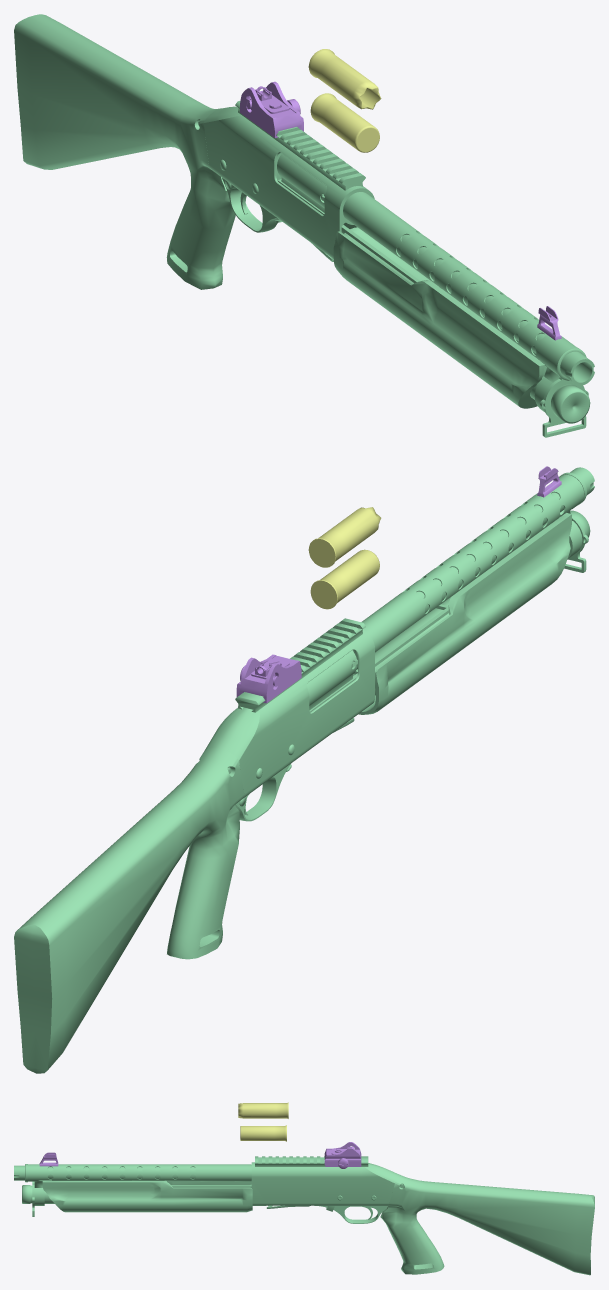
File: FBS.FBX
3 renders of one model, top to bottom at view 1: azimuth 30°, elevation 25°; view 2: azimuth 150°, elevation 25°; view 3: azimuth 270°, elevation 25°, orthographic. The views are drawn at different scales.
Visible parts, largest first — view 1: WPN_FBS, WPN_FBS_forend, WPN_FBS_Sights, cal_12G_shell, cal_12G, WPN_FBS_bolt; view 2: WPN_FBS, WPN_FBS_forend, WPN_FBS_Sights, cal_12G_shell, cal_12G, WPN_FBS_bolt; view 3: WPN_FBS, WPN_FBS_forend, WPN_FBS_Sights, cal_12G_shell, cal_12G.
Boxes of the visible parts, bbox=[...] form: WPN_FBS: bbox=[14, 14, 594, 437]; WPN_FBS_forend: bbox=[277, 179, 546, 408]; WPN_FBS_Sights: bbox=[240, 81, 561, 340]; cal_12G_shell: bbox=[308, 49, 381, 109]; cal_12G: bbox=[310, 93, 379, 152]; WPN_FBS_bolt: bbox=[277, 154, 326, 212]; WPN_FBS: bbox=[14, 467, 594, 1073]; WPN_FBS_forend: bbox=[309, 513, 571, 714]; WPN_FBS_Sights: bbox=[236, 466, 561, 703]; cal_12G_shell: bbox=[308, 507, 381, 567]; cal_12G: bbox=[310, 549, 379, 609]; WPN_FBS_bolt: bbox=[307, 651, 357, 710]; WPN_FBS: bbox=[14, 1156, 594, 1275]; WPN_FBS_forend: bbox=[42, 1180, 252, 1212]; WPN_FBS_Sights: bbox=[39, 1142, 361, 1168]; cal_12G_shell: bbox=[238, 1102, 288, 1118]; cal_12G: bbox=[240, 1125, 286, 1141].
Bounding box in the file's own units: 4.49 × 28.41 × 87.21.
